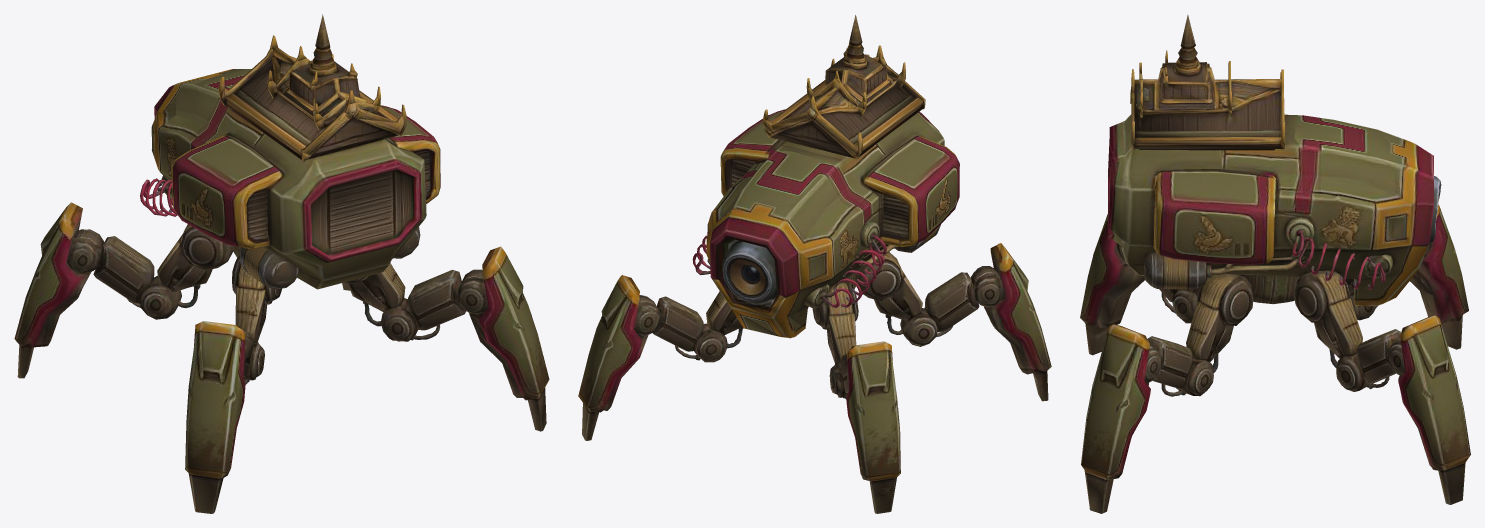
Rendered from monsoon_spotter.glb.
The picture shows the model from 3 angles, left to right: view 1: azimuth 30°, elevation 25°; view 2: azimuth 150°, elevation 25°; view 3: azimuth 270°, elevation 25°; orthographic projection. The views are drawn at different scales.
Parts seen in each view (by area): view 1: Body, Trim; view 2: Body, Trim; view 3: Body, Trim.
Boxes of the visible parts, bbox=[...] form: Body: bbox=[14, 14, 549, 513]; Trim: bbox=[59, 35, 546, 478]; Body: bbox=[578, 15, 1051, 513]; Trim: bbox=[580, 44, 1012, 481]; Body: bbox=[1080, 14, 1470, 513]; Trim: bbox=[1082, 48, 1468, 478].
Size of the model in its own units: 2.5 by 2.78 by 2.37.
Materials: 2 (2 with a texture image).
